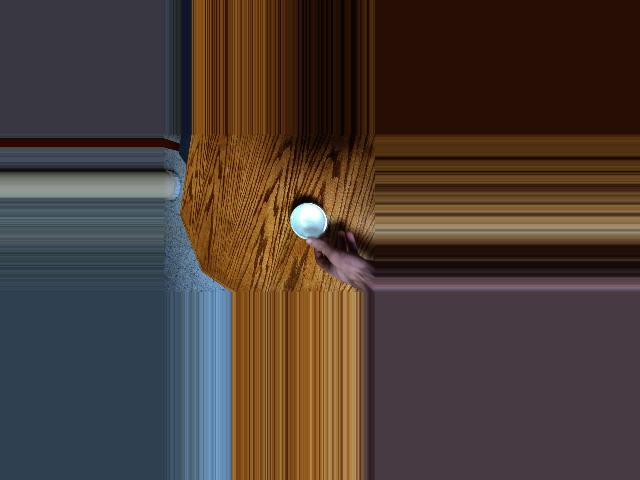cotage: (285, 200, 331, 246)
